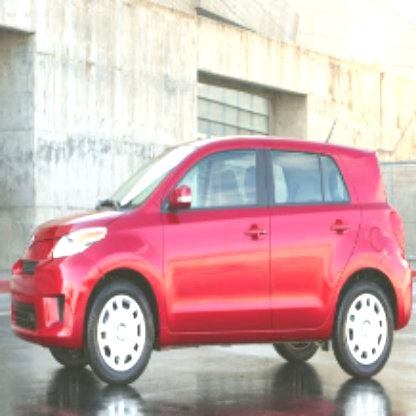Vehicle: (10, 136, 413, 386)
